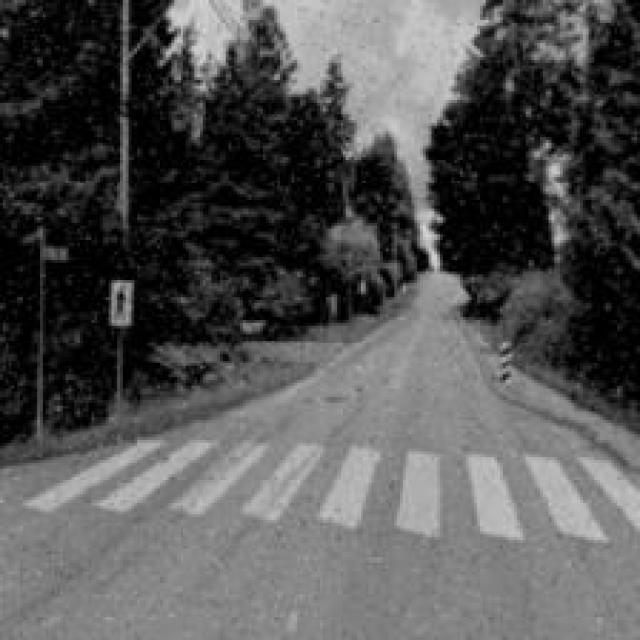crosswalk: (20, 433, 640, 556)
